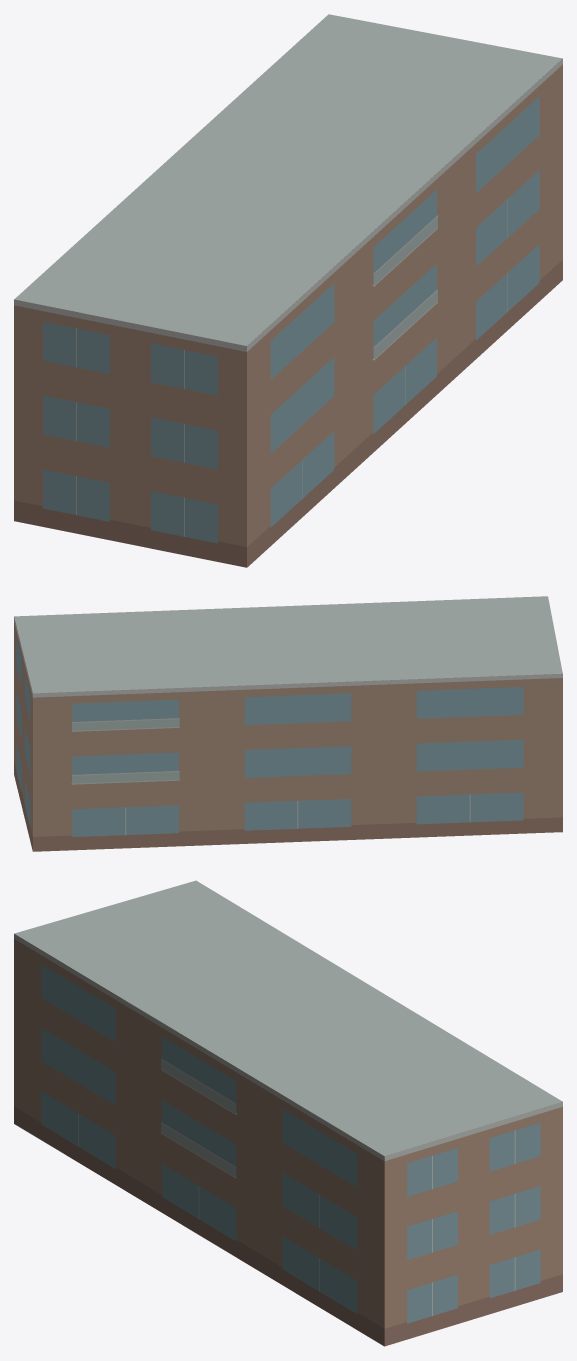
The model's file is survey-upis-32508344.glb.
3 views of the same model, one above another, from view 1: azimuth 30°, elevation 25°; view 2: azimuth 150°, elevation 25°; view 3: azimuth 270°, elevation 25° (orthographic). The views are drawn at different scales.
Parts seen in each view (by area): view 1: survey-upis-32508344.tmp; view 2: survey-upis-32508344.tmp; view 3: survey-upis-32508344.tmp.
Part boxes in pixels (x1,y1,x2,y2): survey-upis-32508344.tmp: [14, 14, 562, 567]; survey-upis-32508344.tmp: [14, 596, 562, 851]; survey-upis-32508344.tmp: [14, 880, 562, 1346].
Bounding box in the file's own units: 28.46 × 9.15 × 23.93.
